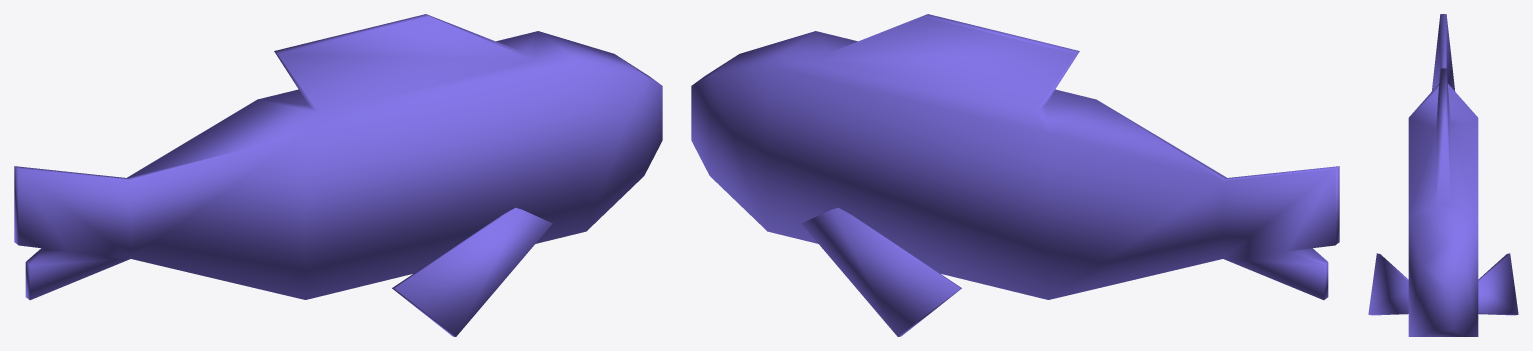
The model's file is fish.fbx.
The picture shows the model from 3 angles, left to right: view 1: azimuth 30°, elevation 25°; view 2: azimuth 150°, elevation 25°; view 3: azimuth 270°, elevation 25°; orthographic projection. The views are drawn at different scales.
Visible parts, largest first — view 1: Cube.003; view 2: Cube.003; view 3: Cube.003.
Part boxes in pixels (x1,y1,x2,y2): Cube.003: (14, 14, 662, 336); Cube.003: (691, 14, 1339, 336); Cube.003: (1368, 14, 1518, 336).
Size of the model in its own units: 430 by 179 by 121.
